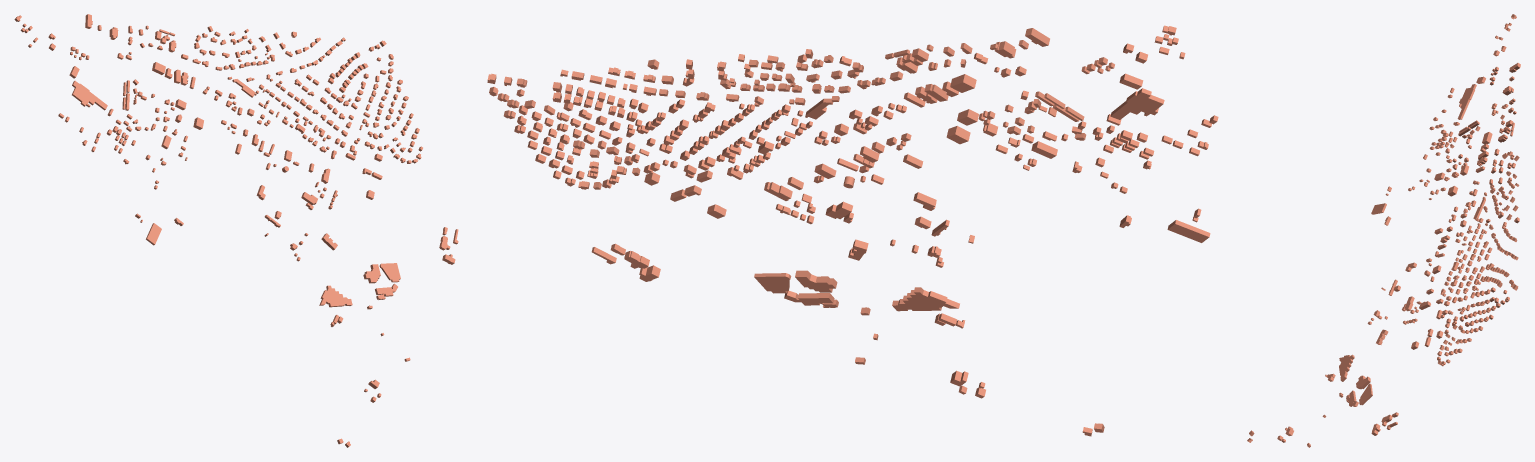
The picture shows the model from 3 angles, left to right: view 1: azimuth 30°, elevation 25°; view 2: azimuth 150°, elevation 25°; view 3: azimuth 270°, elevation 25°; orthographic projection. The views are drawn at different scales.
Visible parts, largest first — view 1: mesh; view 2: mesh; view 3: mesh.
Part boxes in pixels (left/top/right/bottom): mesh: left=14, top=14, right=458, bottom=447; mesh: left=487, top=25, right=1218, bottom=436; mesh: left=1247, top=14, right=1520, bottom=447.
Size of the model in its own units: 1731 by 1622 by 1170.
